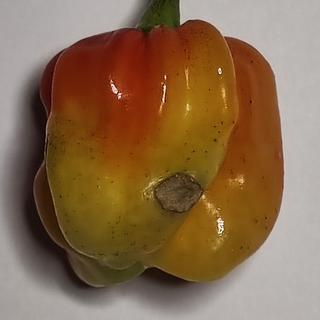Defect: (151, 171, 206, 218)
